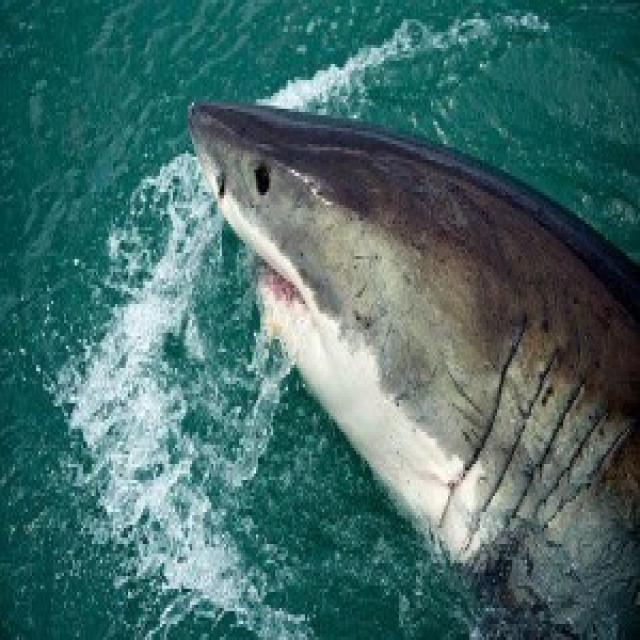Shark: (173, 83, 637, 638)
